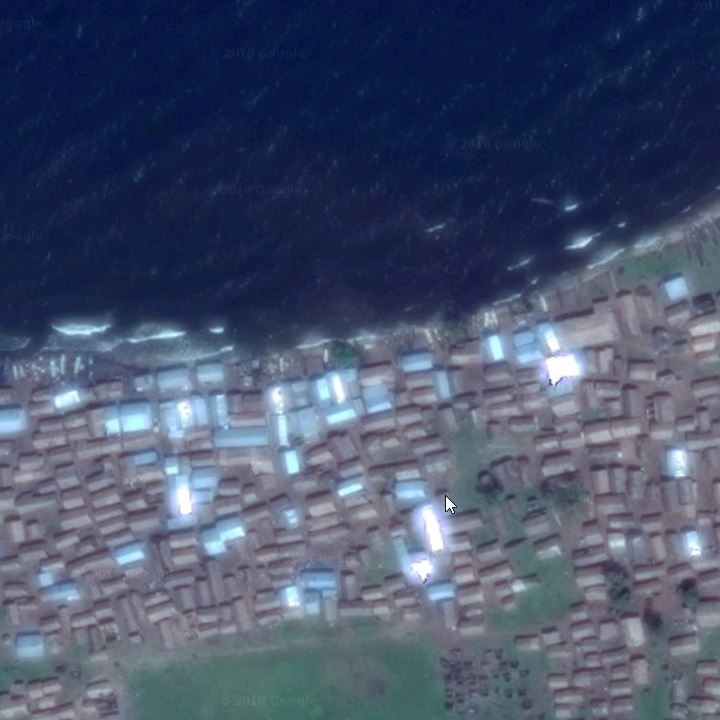boat: (436, 323, 460, 356), (245, 343, 262, 388), (688, 223, 704, 267), (389, 323, 406, 363), (679, 225, 695, 267), (570, 270, 586, 312), (606, 262, 623, 298), (350, 335, 370, 364), (298, 346, 313, 384), (549, 279, 566, 312), (274, 347, 289, 384), (405, 322, 421, 356), (423, 323, 439, 355), (54, 349, 68, 385), (536, 290, 552, 321), (69, 350, 83, 385), (318, 338, 331, 375), (701, 212, 712, 255), (460, 313, 473, 349), (11, 356, 26, 386), (489, 300, 501, 337), (43, 351, 56, 384), (85, 350, 97, 385), (479, 304, 490, 339)
